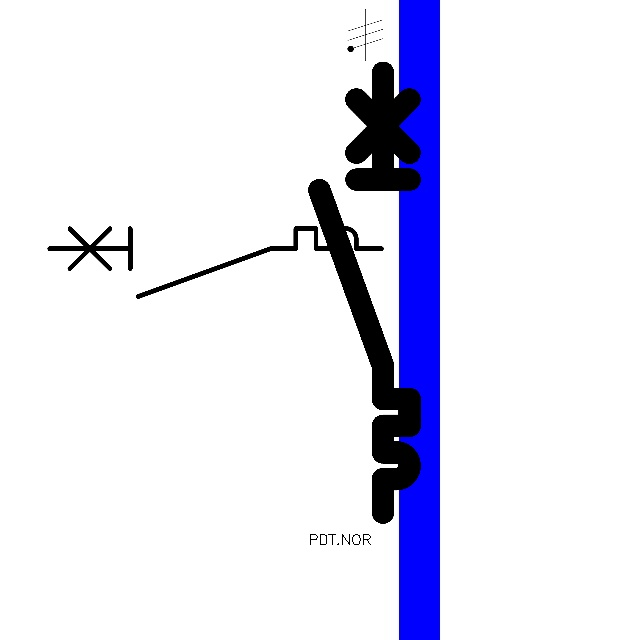interruptor_termomagnetico: (308, 61, 421, 524), (41, 220, 390, 305)
